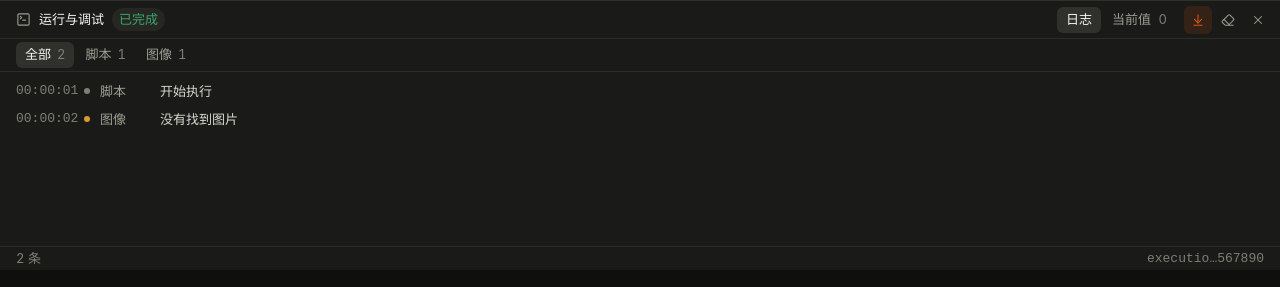
Test: ProgramRunConsole › defaults to all events and filters by real event category
Click the button "图像 1": point(166, 55) [137,42,195,68]
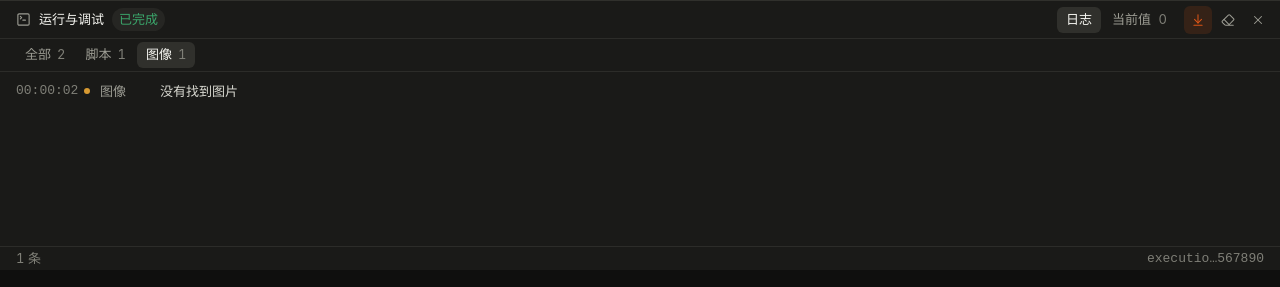
Check: the text "没有找到图片" is shown, box [160,83,238,99]
Check: the text "开始执行" is gone
Check: the text "1 条" is shown, box [16,249,41,268]
